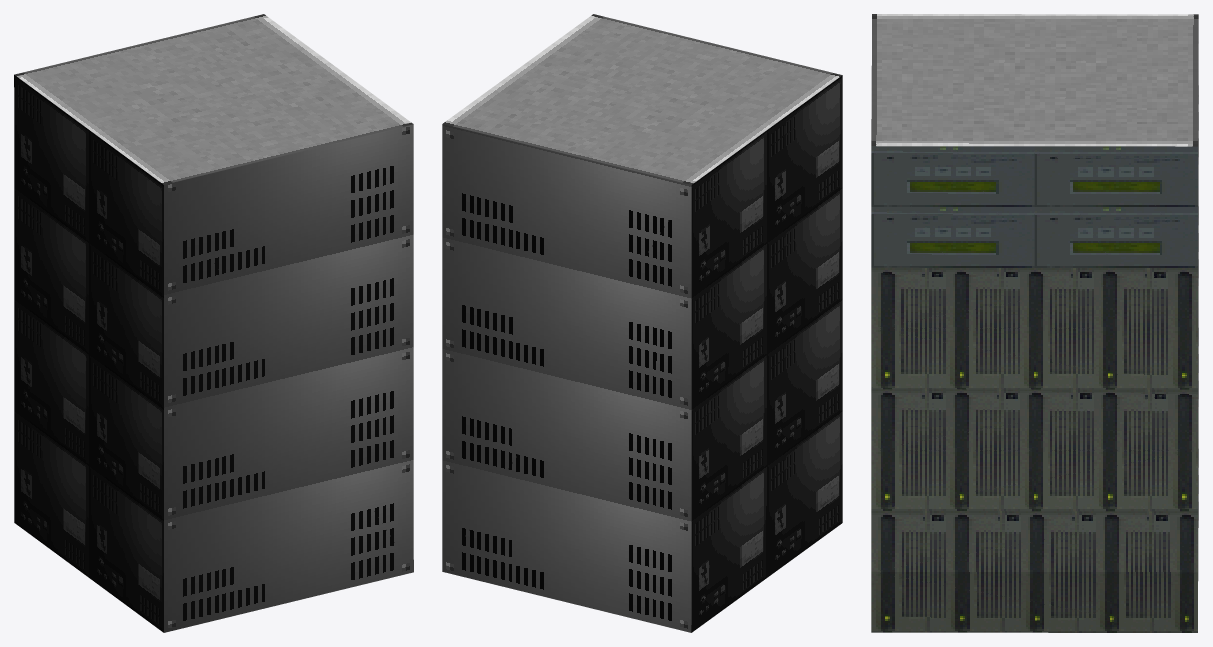
The model's file is primary_153.glb.
3 renders of one model, left to right at view 1: azimuth 30°, elevation 25°; view 2: azimuth 150°, elevation 25°; view 3: azimuth 270°, elevation 25°, orthographic. The views are drawn at different scales.
Parts seen in each view (by area): view 1: Object; view 2: Object; view 3: Object.
Boxes of the visible parts, x1,y1,x2,y2 form: Object: [14, 14, 413, 632]; Object: [442, 14, 842, 632]; Object: [871, 14, 1198, 632].
Size of the model in its own units: 1.55 by 2.65 by 1.62.
9 materials, 9 textured.
